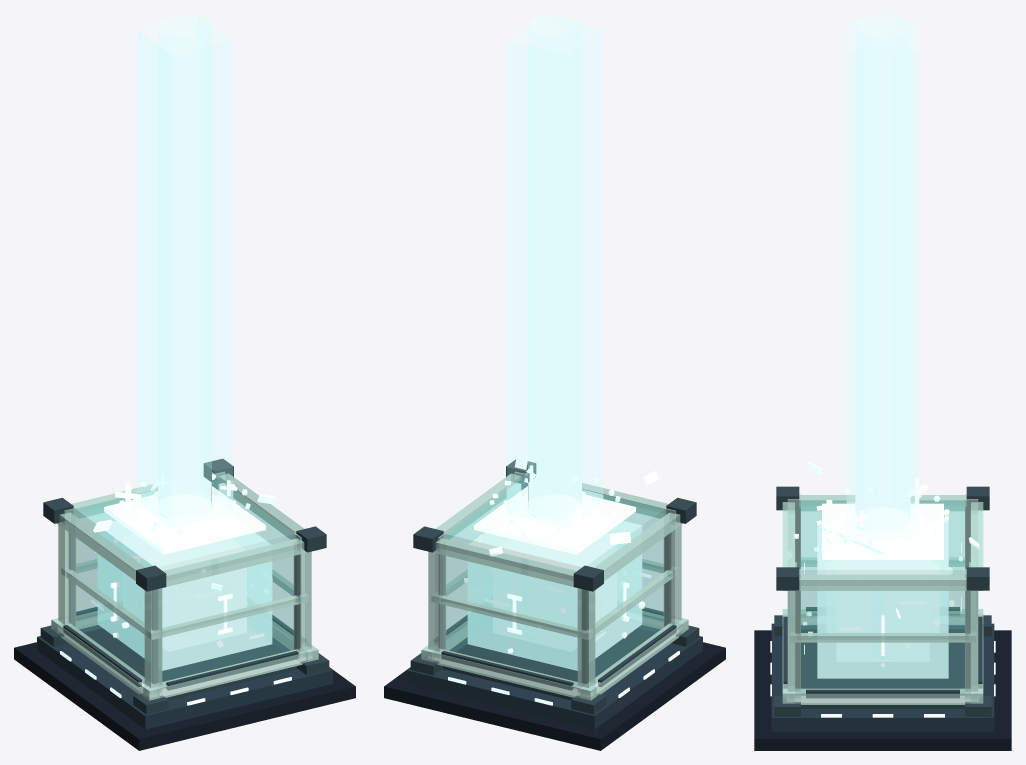
The model's file is sparkle_beacon.glb.
The picture shows the model from 3 angles, left to right: view 1: azimuth 30°, elevation 25°; view 2: azimuth 150°, elevation 25°; view 3: azimuth 270°, elevation 25°; orthographic projection. The views are drawn at different scales.
Parts seen in each view (by area): view 1: wide square-like beacon light beam, soft round center beam, outer transparent glass shell, floating aqua inner shell, white cyan inner cube core, lowest stepped obsidian north slab, blue black chamfered second step north slab, lowest stepped obsidian west slab, dark central raised square, thin top glass plate, blue black chamfered second step west slab, lower reinforced north rail (+22 smaller); view 2: wide square-like beacon light beam, soft round center beam, outer transparent glass shell, floating aqua inner shell, white cyan inner cube core, lowest stepped obsidian south slab, blue black chamfered second step south slab, lowest stepped obsidian west slab, dark central raised square, thin top glass plate, blue black chamfered second step west slab, lower reinforced south rail (+21 smaller); view 3: wide square-like beacon light beam, soft round center beam, outer transparent glass shell, floating aqua inner shell, white cyan inner cube core, lowest stepped obsidian east slab, blue black chamfered second step east slab, dark central raised square, thin top glass plate, upper reinforced east rail, lower reinforced east rail, lowest stepped obsidian south slab (+26 smaller).
Part boxes in pixels (x1,y1,x2,y2): wide square-like beacon light beam: (137, 14, 232, 528); soft round center beam: (158, 15, 211, 505); outer transparent glass shell: (76, 477, 293, 681); floating aqua inner shell: (97, 521, 272, 670); white cyan inner cube core: (123, 534, 246, 651); lowest stepped obsidian north slab: (138, 677, 355, 750); blue black chamfered second step north slab: (135, 668, 332, 728); lowest stepped obsidian west slab: (14, 647, 159, 750); dark central raised square: (80, 626, 296, 700); thin top glass plate: (104, 486, 265, 554); blue black chamfered second step west slab: (37, 636, 162, 729); lower reinforced north rail: (143, 645, 318, 700); wide square-like beacon light beam: (507, 14, 602, 528); soft round center beam: (528, 15, 581, 505); outer transparent glass shell: (446, 476, 663, 681); floating aqua inner shell: (467, 521, 642, 670); white cyan inner cube core: (493, 534, 616, 651); lowest stepped obsidian south slab: (384, 678, 600, 750); blue black chamfered second step south slab: (407, 668, 604, 727); lowest stepped obsidian west slab: (580, 647, 725, 750); dark central raised square: (443, 626, 659, 700); thin top glass plate: (474, 486, 635, 554); blue black chamfered second step west slab: (577, 637, 702, 729); lower reinforced south rail: (421, 645, 596, 700); wide square-like beacon light beam: (847, 19, 918, 536); soft round center beam: (855, 14, 910, 516); outer transparent glass shell: (801, 500, 964, 688); floating aqua inner shell: (817, 521, 948, 678); white cyan inner cube core: (836, 560, 929, 661); lowest stepped obsidian east slab: (754, 728, 1011, 750); blue black chamfered second step east slab: (771, 709, 994, 731); dark central raised square: (801, 626, 964, 708); thin top glass plate: (822, 503, 943, 559); upper reinforced east rail: (783, 574, 982, 590); lower reinforced east rail: (782, 688, 983, 704); lowest stepped obsidian south slab: (986, 630, 1011, 750).
Size of the model in its own units: 2.7 by 7.78 by 2.7.
